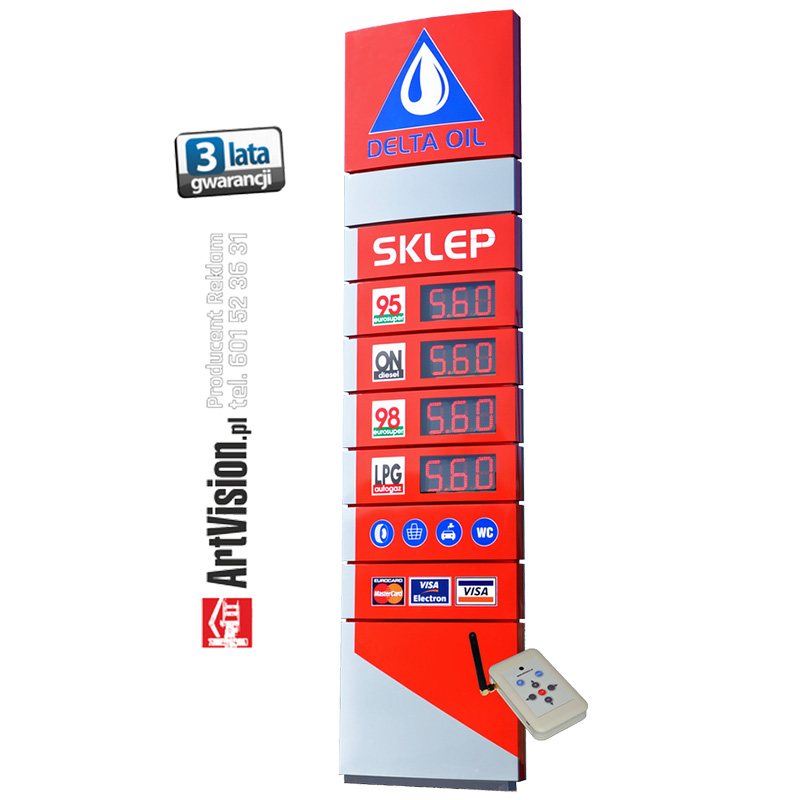LPG: (366, 454, 409, 499)
ON: (369, 335, 409, 383)
PB95: (366, 283, 408, 329)
PB98: (366, 394, 409, 441)
